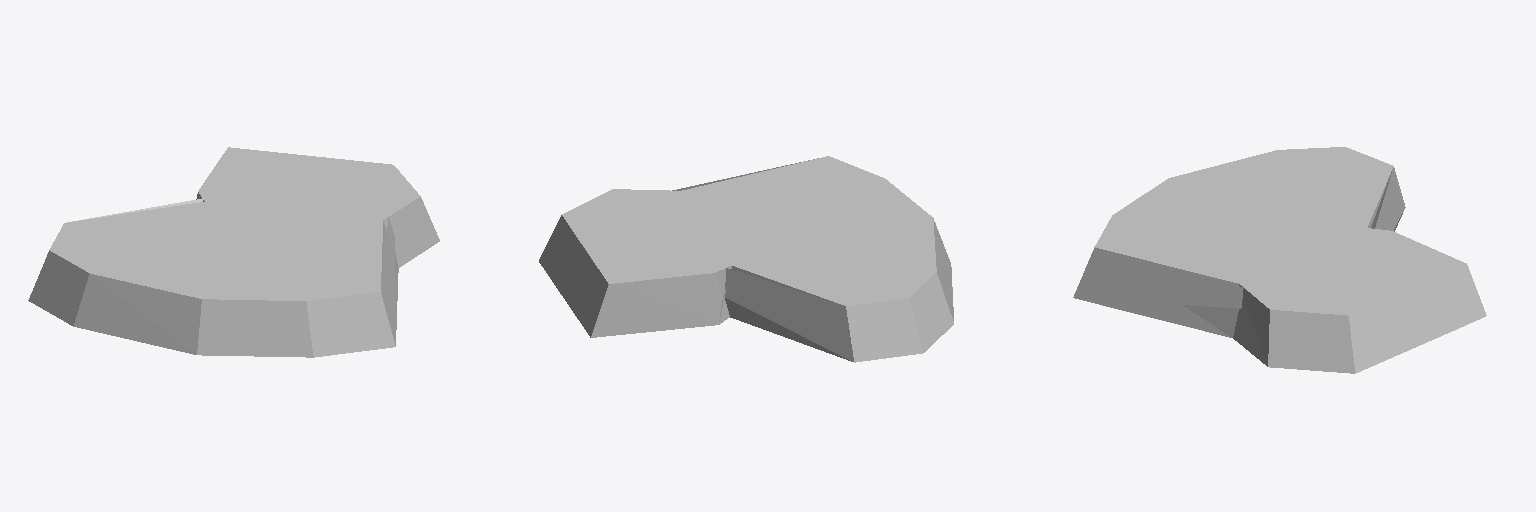
File: lava-rocks(6).obj
3 renders of one model, left to right at view 1: azimuth 30°, elevation 25°; view 2: azimuth 150°, elevation 25°; view 3: azimuth 270°, elevation 25°, orthographic.
Visible parts, largest first — view 1: Plane; view 2: Plane; view 3: Plane.
Boxes of the visible parts, x1,y1,x2,y2 form: Plane: [28, 147, 439, 357]; Plane: [539, 156, 953, 362]; Plane: [1073, 147, 1486, 373].
Bounding box in the file's own units: 2.84 × 0.3432 × 2.65.